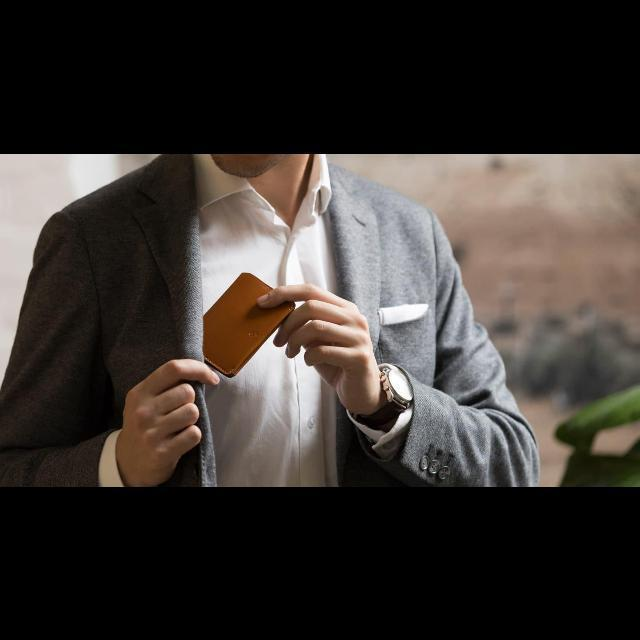wallet: (203, 268, 297, 384)
